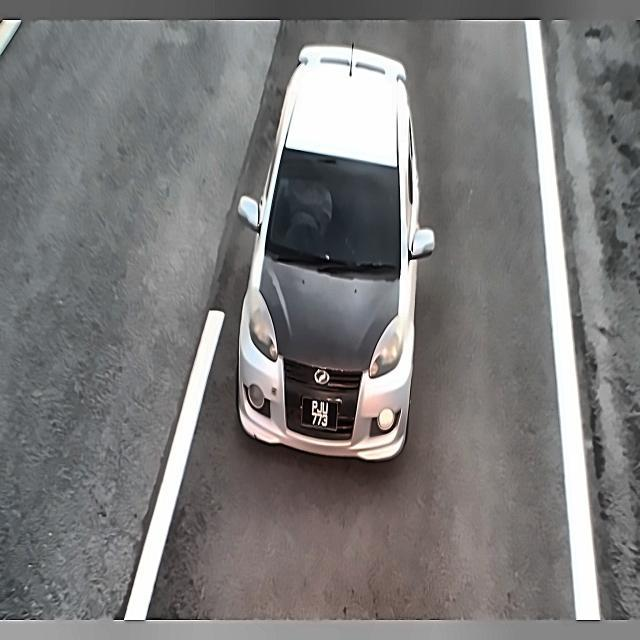car: (302, 392, 338, 443)
